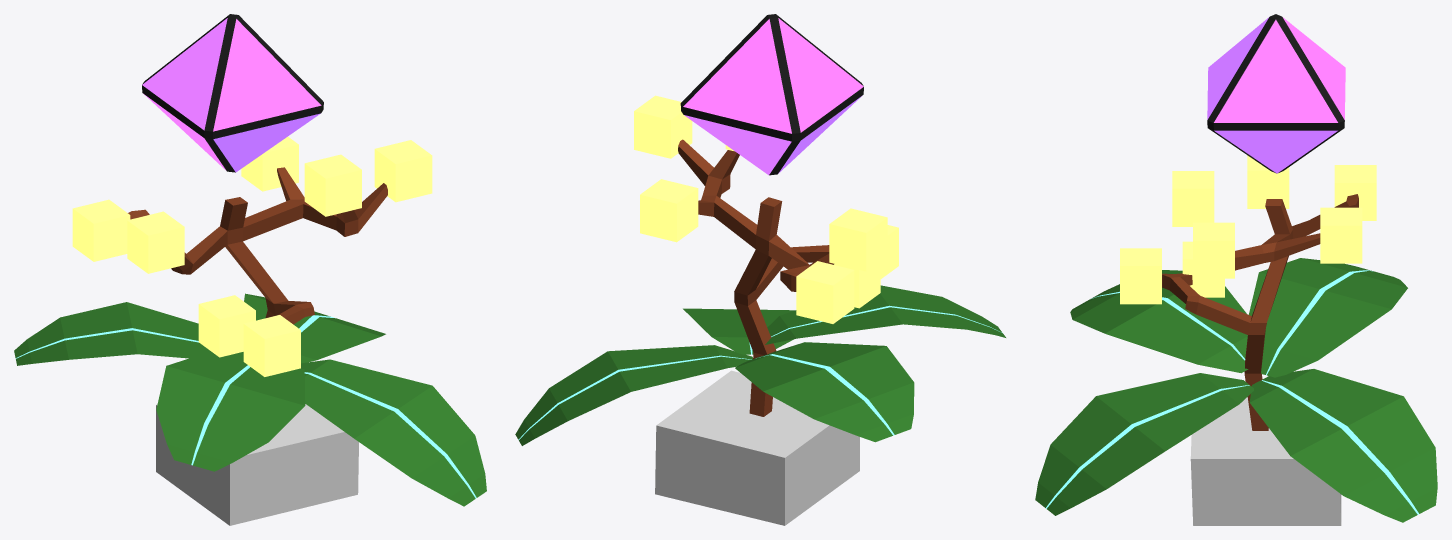
File: plant.glb
3 renders of one model, left to right at view 1: azimuth 30°, elevation 25°; view 2: azimuth 150°, elevation 25°; view 3: azimuth 270°, elevation 25°, orthographic.
Visible parts, largest first — view 1: Leafs, Fruit, Base, Trunk, Cube.012, Cube.013, Cube.014, Cube.010, Cube.011, Cube.015, Cube.016; view 2: Leafs, Base, Fruit, Trunk, Cube.011, Cube.013, Cube.016, Cube.010, Cube.015, Cube.014; view 3: Leafs, Fruit, Base, Trunk, Cube.016, Cube.010, Cube.014, Cube.012, Cube.011, Cube.013, Cube.015.
Part boxes in pixels (left/top/right/bottom): Leafs: left=14, top=293, right=486, bottom=506; Fruit: left=142, top=14, right=323, bottom=172; Base: left=156, top=404, right=358, bottom=525; Trunk: left=128, top=167, right=387, bottom=324; Cube.012: left=304, top=154, right=361, bottom=216; Cube.013: left=127, top=211, right=184, bottom=273; Cube.014: left=243, top=315, right=300, bottom=376; Cube.010: left=374, top=140, right=432, bottom=202; Cube.011: left=72, top=199, right=130, bottom=261; Cube.015: left=198, top=295, right=255, bottom=357; Cube.016: left=241, top=136, right=298, bottom=191; Leafs: left=515, top=285, right=1005, bottom=445; Base: left=655, top=370, right=859, bottom=525; Fruit: left=680, top=14, right=863, bottom=175; Trunk: left=678, top=139, right=833, bottom=416; Cube.011: left=796, top=261, right=854, bottom=323; Cube.013: left=829, top=208, right=887, bottom=271; Cube.016: left=640, top=179, right=698, bottom=242; Cube.010: left=634, top=95, right=692, bottom=158; Cube.015: left=834, top=261, right=880, bottom=308; Cube.014: left=880, top=225, right=898, bottom=278; Leafs: left=1035, top=258, right=1437, bottom=522; Fruit: left=1207, top=14, right=1345, bottom=173; Base: left=1190, top=397, right=1341, bottom=525; Trunk: left=1162, top=194, right=1358, bottom=430; Cube.016: left=1320, top=207, right=1362, bottom=263; Cube.010: left=1193, top=222, right=1234, bottom=278; Cube.014: left=1120, top=248, right=1161, bottom=304; Cube.012: left=1172, top=171, right=1214, bottom=226; Cube.011: left=1334, top=165, right=1376, bottom=220; Cube.013: left=1247, top=155, right=1289, bottom=208; Cube.015: left=1182, top=241, right=1224, bottom=297.
Size of the model in its own units: 5.74 by 6.98 by 5.43.
